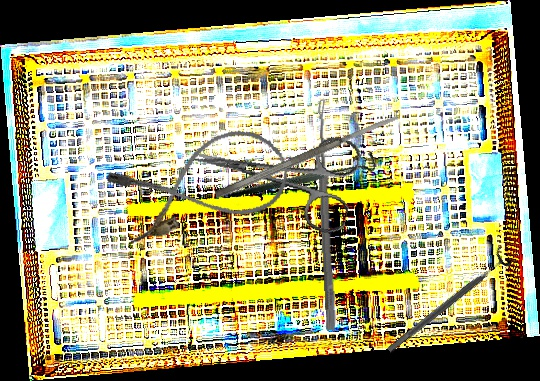Cannula: (103, 119, 298, 250)
Fixation Ring: (381, 246, 514, 360)
Hook Surgical: (228, 117, 379, 233)
Iris Scissors: (186, 106, 364, 237)
Spatula Surgical: (213, 112, 400, 201)
Surgical Spoon: (314, 98, 338, 331)
